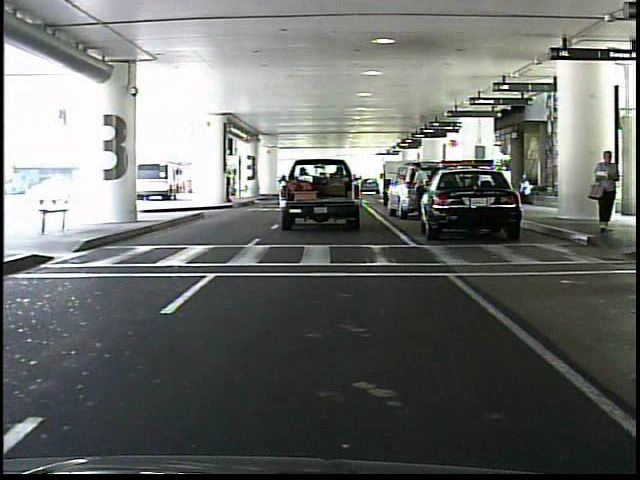person: (589, 146, 623, 237), (409, 160, 434, 224)
